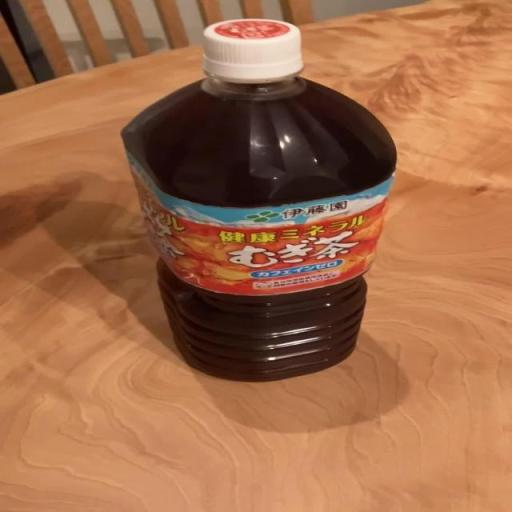plastic: (119, 19, 397, 384)
